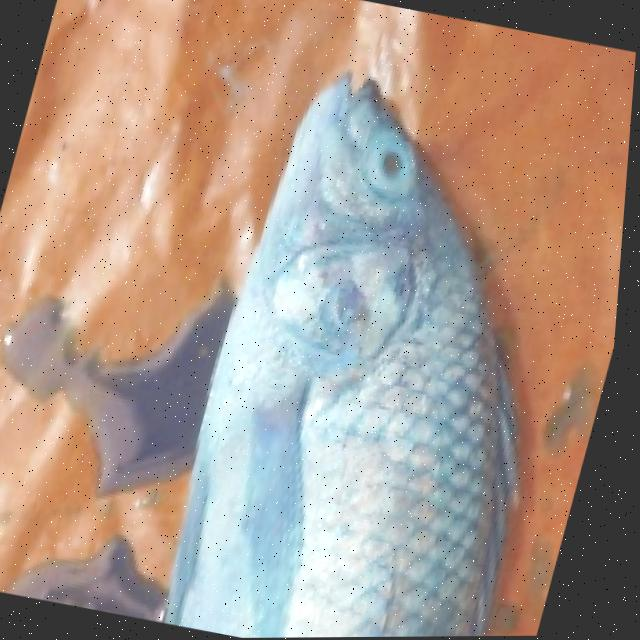Non-Fresh: (132, 31, 576, 639), (325, 107, 437, 230)
